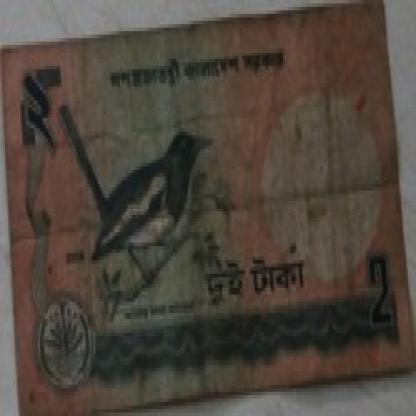two taka: (15, 73, 73, 163), (361, 249, 394, 360)
